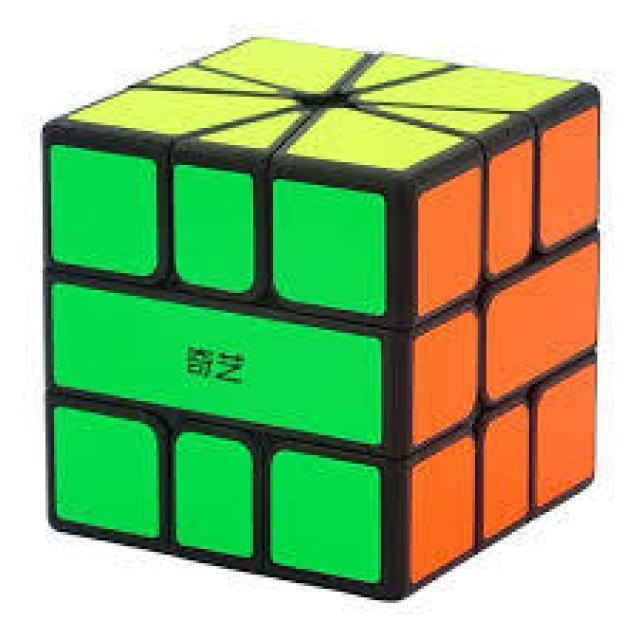Cubo-Resuelto: (46, 37, 592, 597)
